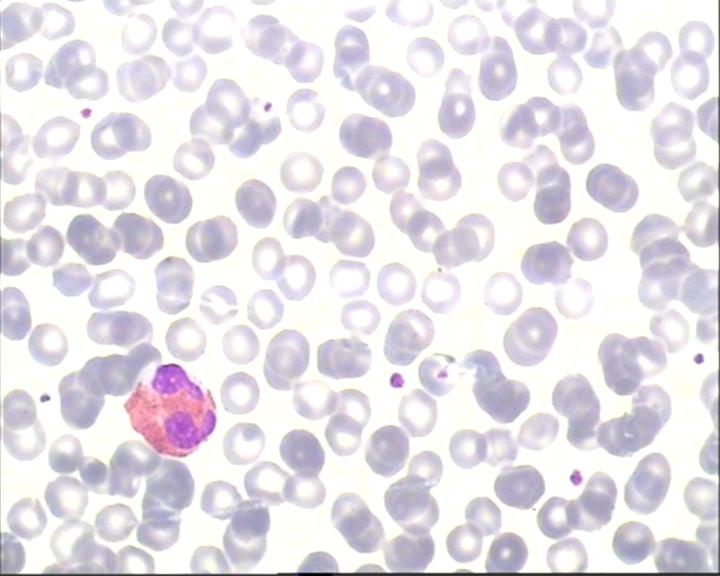eosi: (118, 360, 223, 462)
